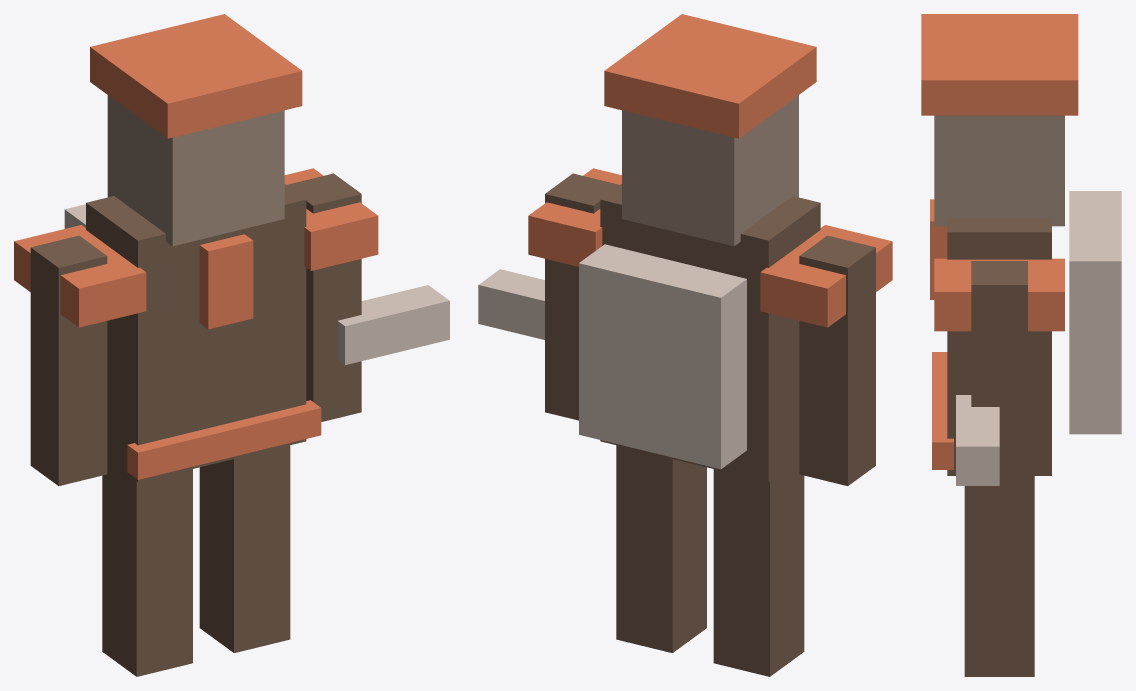
The model's file is 10_keir_emberkin_diver_near_compass.glb.
3 renders of one model, left to right at view 1: azimuth 30°, elevation 25°; view 2: azimuth 150°, elevation 25°; view 3: azimuth 270°, elevation 25°, orthographic.
Parts seen in each view (by area): view 1: Keir Emberkin, Diver near Compass; view 2: Keir Emberkin, Diver near Compass; view 3: Keir Emberkin, Diver near Compass.
Boxes of the visible parts, x1,y1,x2,y2 form: Keir Emberkin, Diver near Compass: (14,14,449,676); Keir Emberkin, Diver near Compass: (478,14,892,676); Keir Emberkin, Diver near Compass: (921,14,1121,676).
Size of the model in its own units: 0.9823 by 1.44 by 0.4408.
